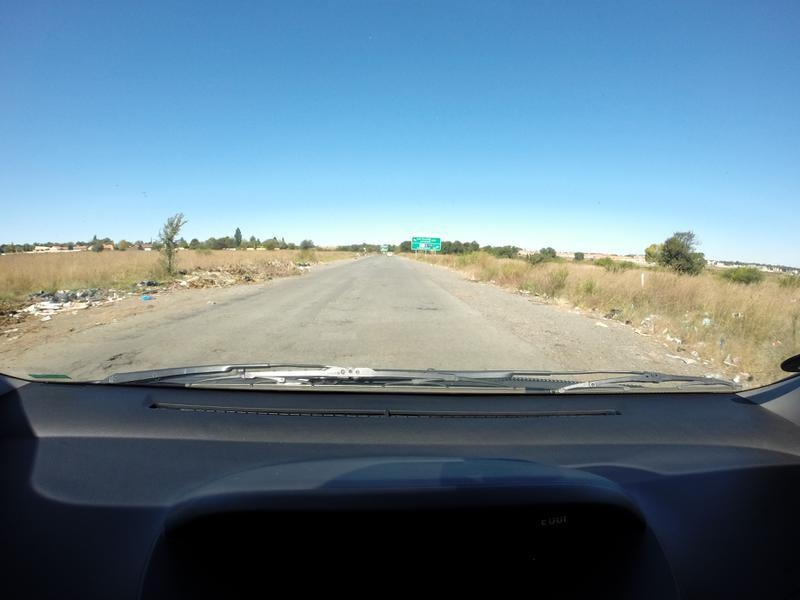pothole: (95, 336, 136, 374), (407, 304, 442, 321)
